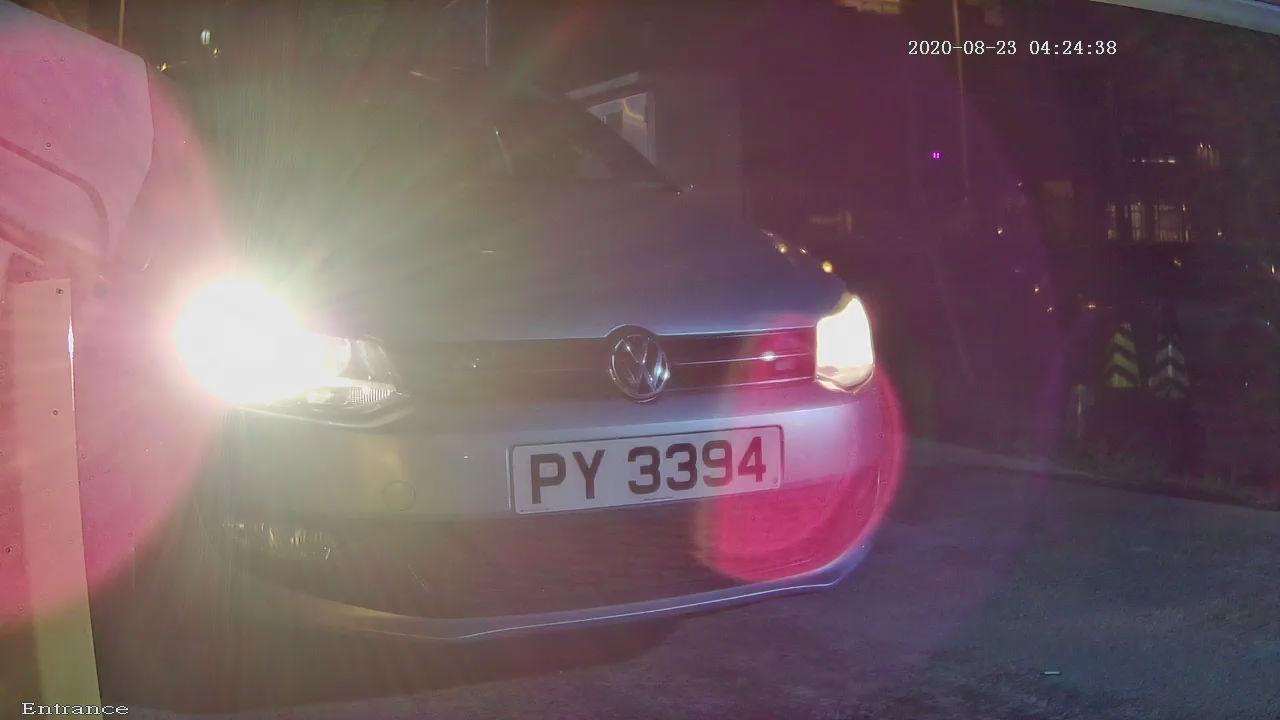Car: (6, 42, 1041, 708)
License Plate: (460, 384, 834, 571)
